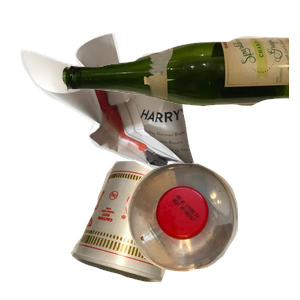glass: (60, 34, 300, 133)
paper: (18, 30, 213, 210)
plastic: (124, 161, 300, 300)
trash: (68, 158, 235, 300)
